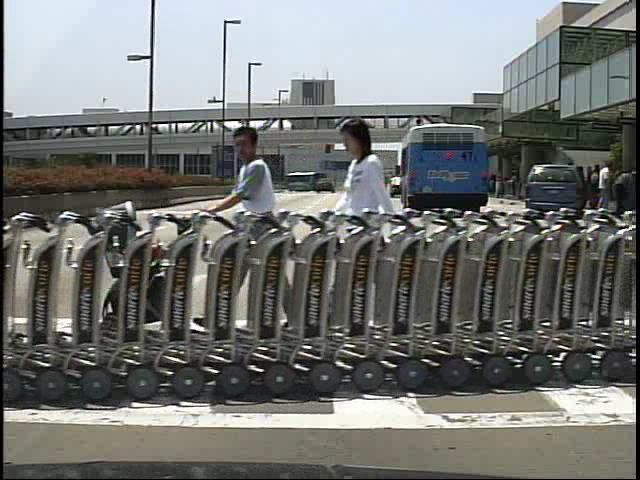person: (207, 121, 292, 350), (334, 117, 403, 350), (594, 161, 615, 211), (585, 163, 604, 216)
